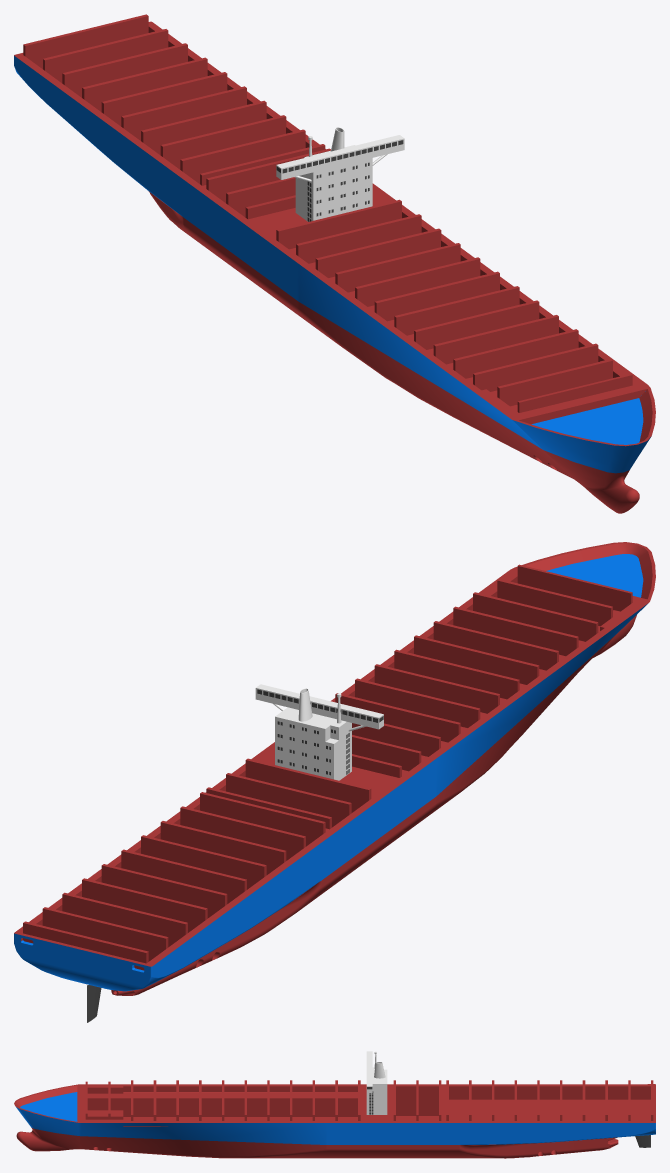
The model's file is Cargo_Ship_Re20210927.fbx.
3 renders of one model, top to bottom at view 1: azimuth 30°, elevation 25°; view 2: azimuth 150°, elevation 25°; view 3: azimuth 270°, elevation 25°, orthographic. The views are drawn at different scales.
Parts seen in each view (by area): view 1: Geometrical Set.1 (×2), Body.189.26, Body.251, Body.248, Body.254, Body.249, Body.252, Body.255, Body.247, Body.250, Body.253, Body.238 (+15 smaller); view 2: Geometrical Set.1 (×2), Body.189.26, Body.254, Body.243, Body.251, Body.248, Body.253, Body.247, Body.250, Body.252, Body.244, Body.249 (+15 smaller); view 3: Geometrical Set.1 (×2), Body.189.26.
Boxes of the visible parts, <box> form: Geometrical Set.1 (×2): <box>14,21,655,513</box>; Body.189.26: <box>276,135,404,221</box>; Body.251: <box>101,72,227,126</box>; Body.248: <box>160,115,286,169</box>; Body.254: <box>43,29,168,82</box>; Body.249: <box>141,100,266,155</box>; Body.252: <box>82,57,207,111</box>; Body.255: <box>23,14,148,68</box>; Body.247: <box>180,129,305,183</box>; Body.250: <box>121,86,246,140</box>; Body.253: <box>62,43,187,97</box>; Body.238: <box>315,228,441,277</box>; Geometrical Set.1 (×2): <box>14,542,655,995</box>; Body.189.26: <box>255,684,383,780</box>; Body.254: <box>42,907,168,961</box>; Body.243: <box>245,758,371,812</box>; Body.251: <box>101,864,227,918</box>; Body.248: <box>160,821,286,874</box>; Body.253: <box>62,892,187,947</box>; Body.247: <box>180,806,305,860</box>; Body.250: <box>121,849,246,903</box>; Body.252: <box>82,878,207,932</box>; Body.244: <box>226,773,351,827</box>; Body.249: <box>141,835,266,889</box>; Geometrical Set.1 (×2): <box>14,1084,655,1158</box>; Body.189.26: <box>366,1051,387,1114</box>.
Size of the model in its own units: 57224 by 63599 by 389969.
